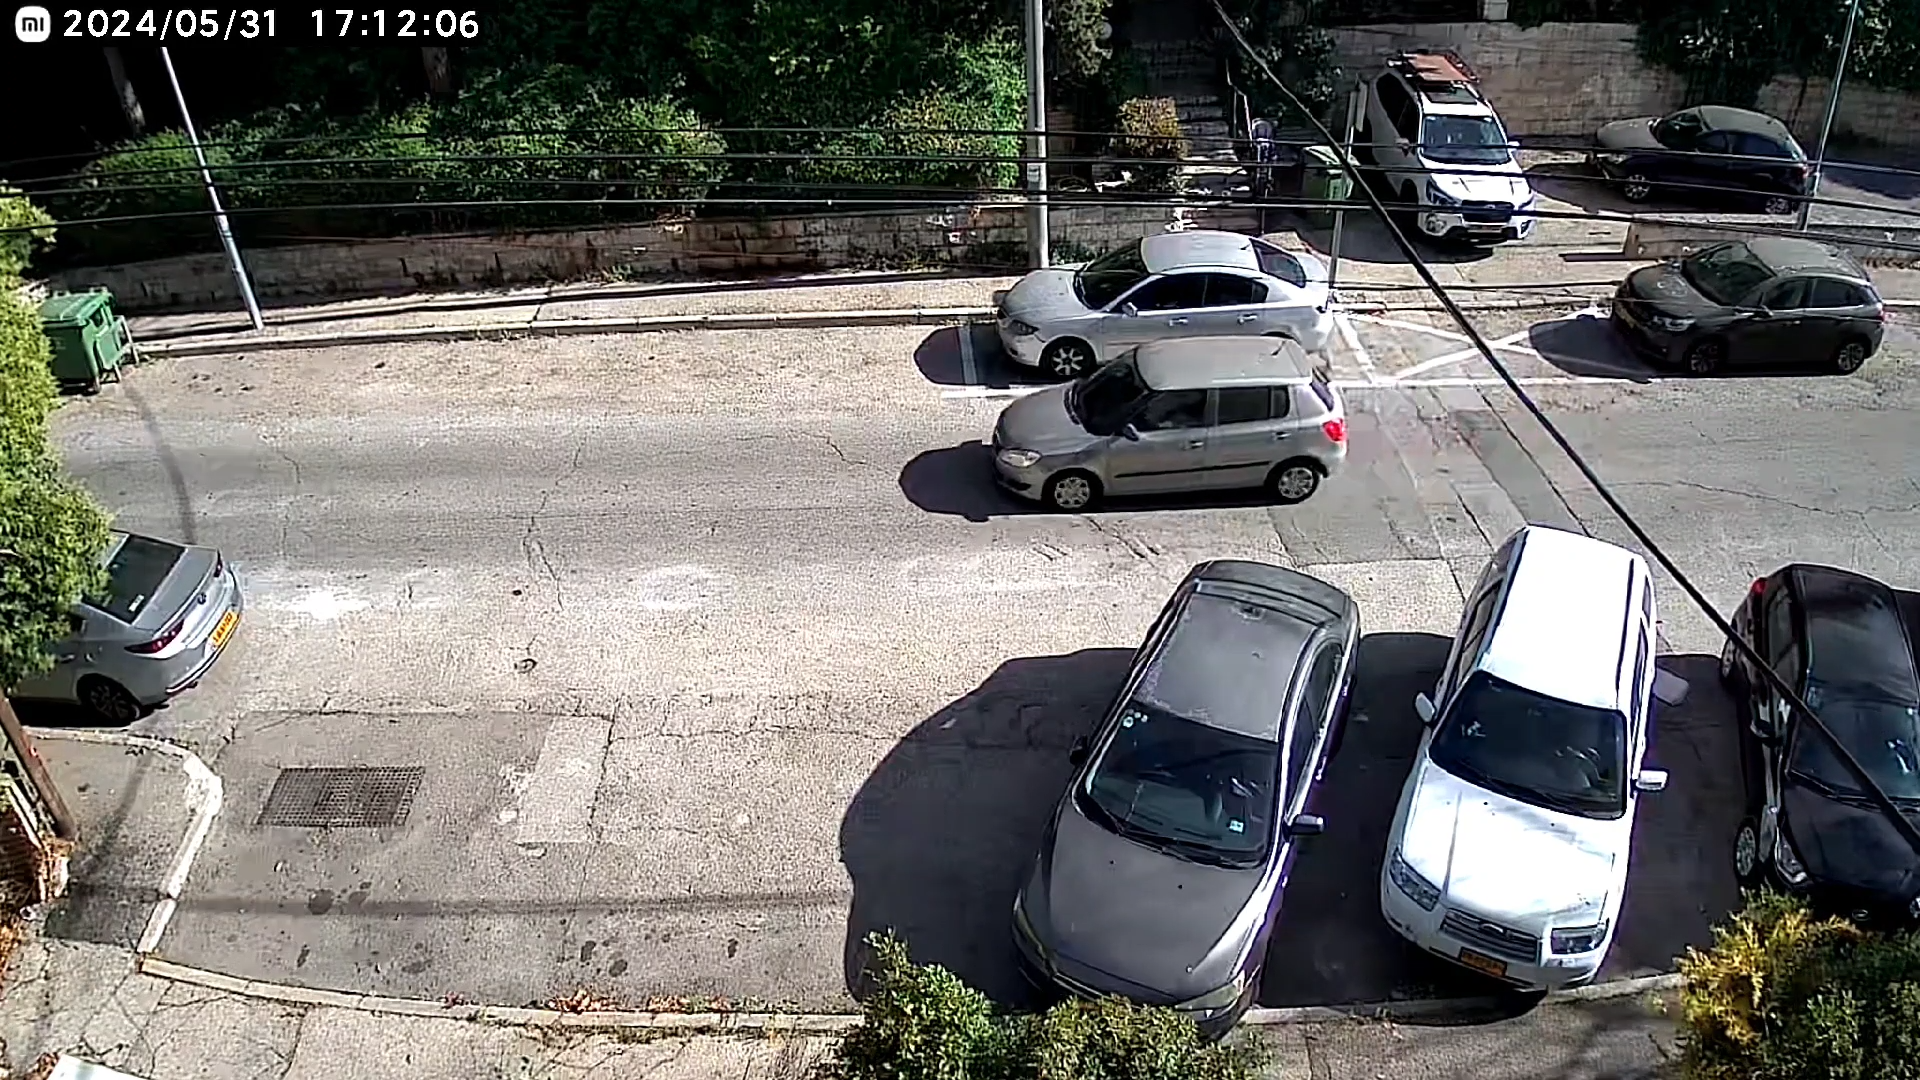moving car: (996, 334, 1352, 520)
